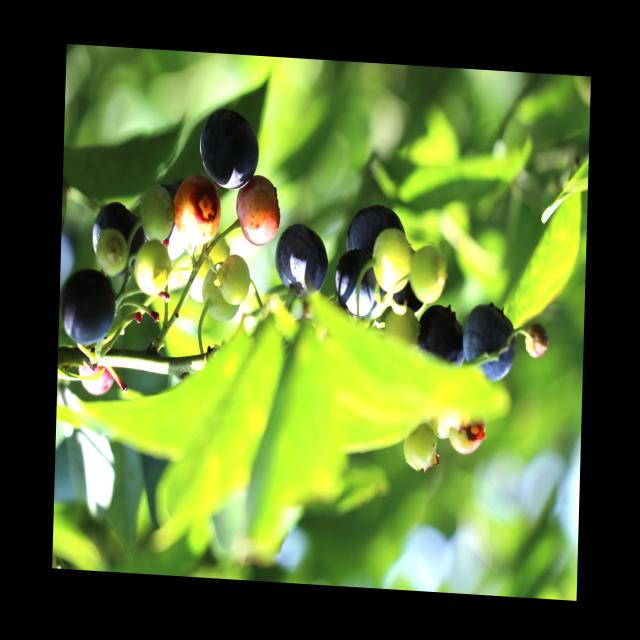blueberry: (196, 107, 261, 194), (460, 300, 518, 386), (59, 266, 120, 344), (272, 222, 332, 301), (89, 202, 146, 276), (345, 203, 406, 262), (333, 251, 384, 321), (414, 305, 464, 371)
blueberry-halfripe: (233, 175, 280, 248), (174, 182, 221, 247), (78, 346, 118, 394)
blueberry-unripe: (374, 228, 415, 292), (133, 240, 173, 297), (200, 270, 240, 322), (410, 246, 446, 302), (402, 422, 438, 474), (139, 187, 172, 241), (219, 253, 252, 305), (95, 233, 128, 275)
